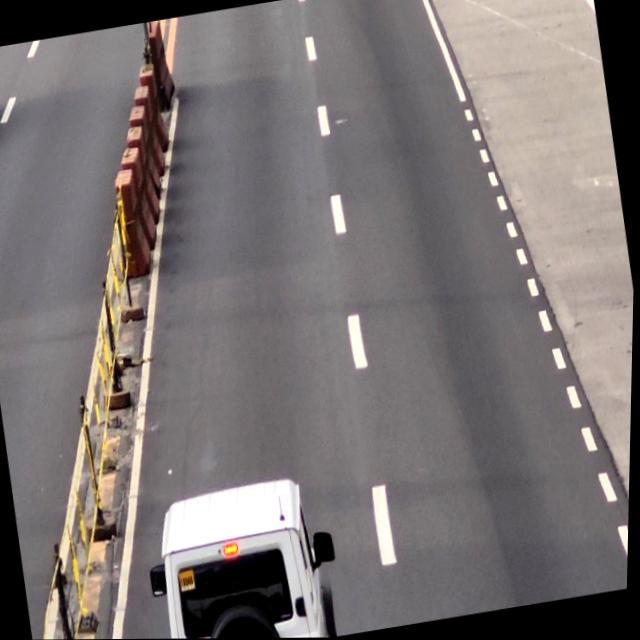Car: (151, 475, 340, 639)
